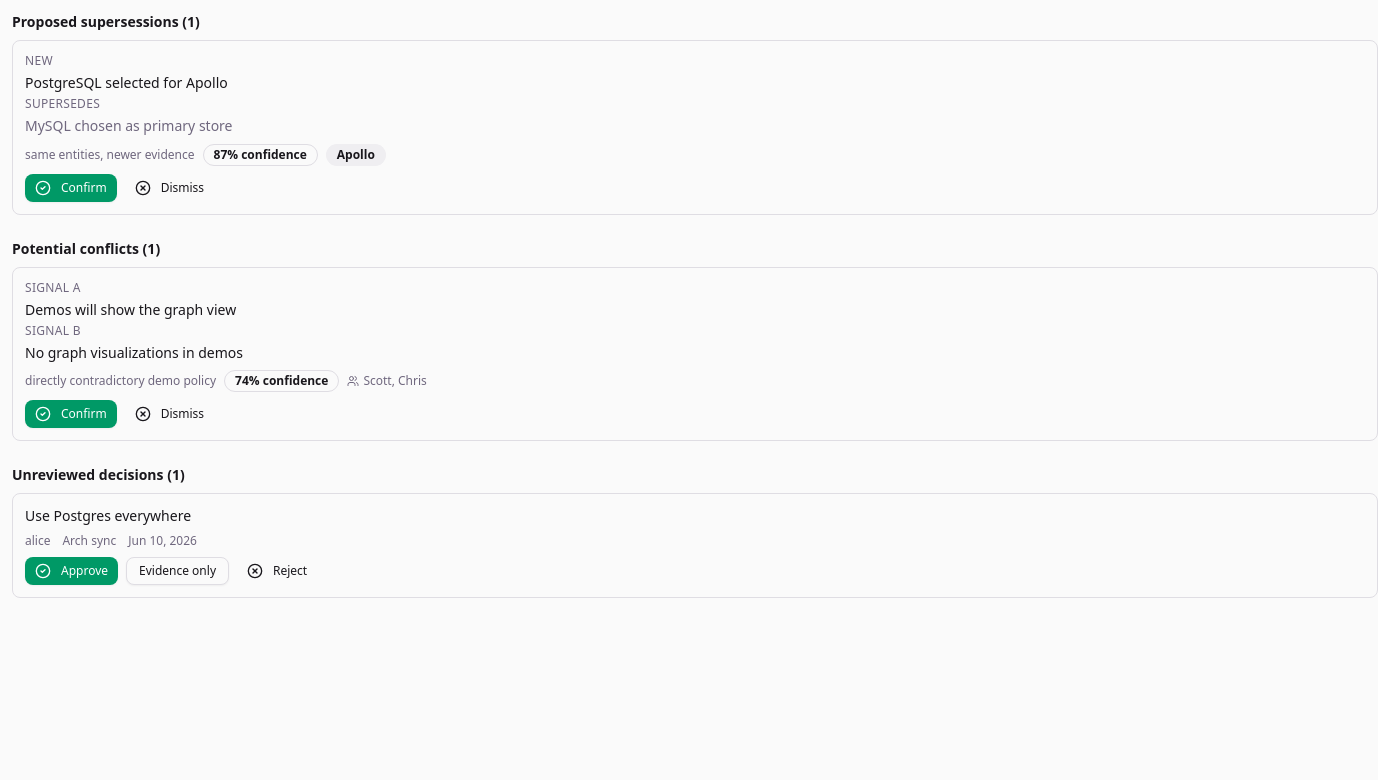
Test: API failure reverts the row and shows error
Click the button "Confirm" below "same entities, newer evidence" at (71, 188), box [25,174,117,202]
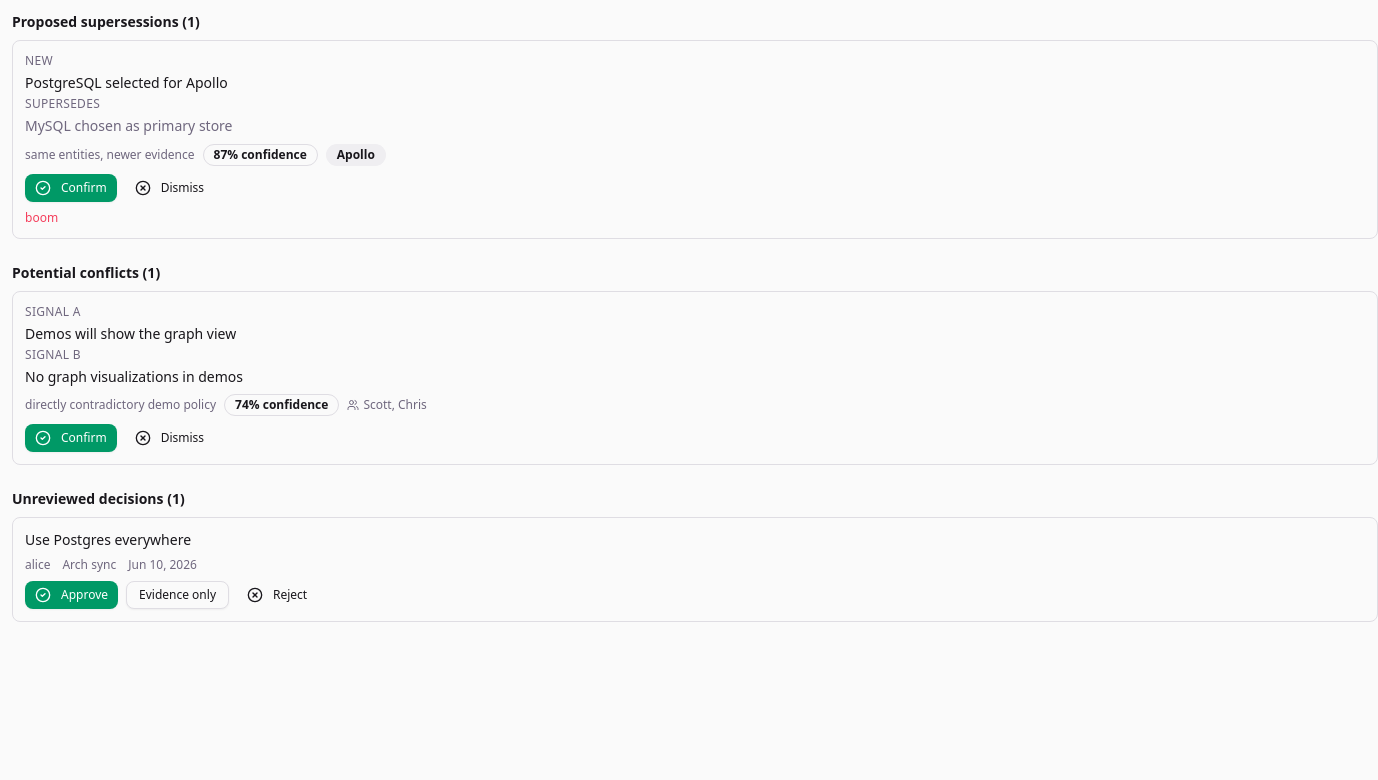
Now the text "boom" is shown, box [25,208,58,226]
